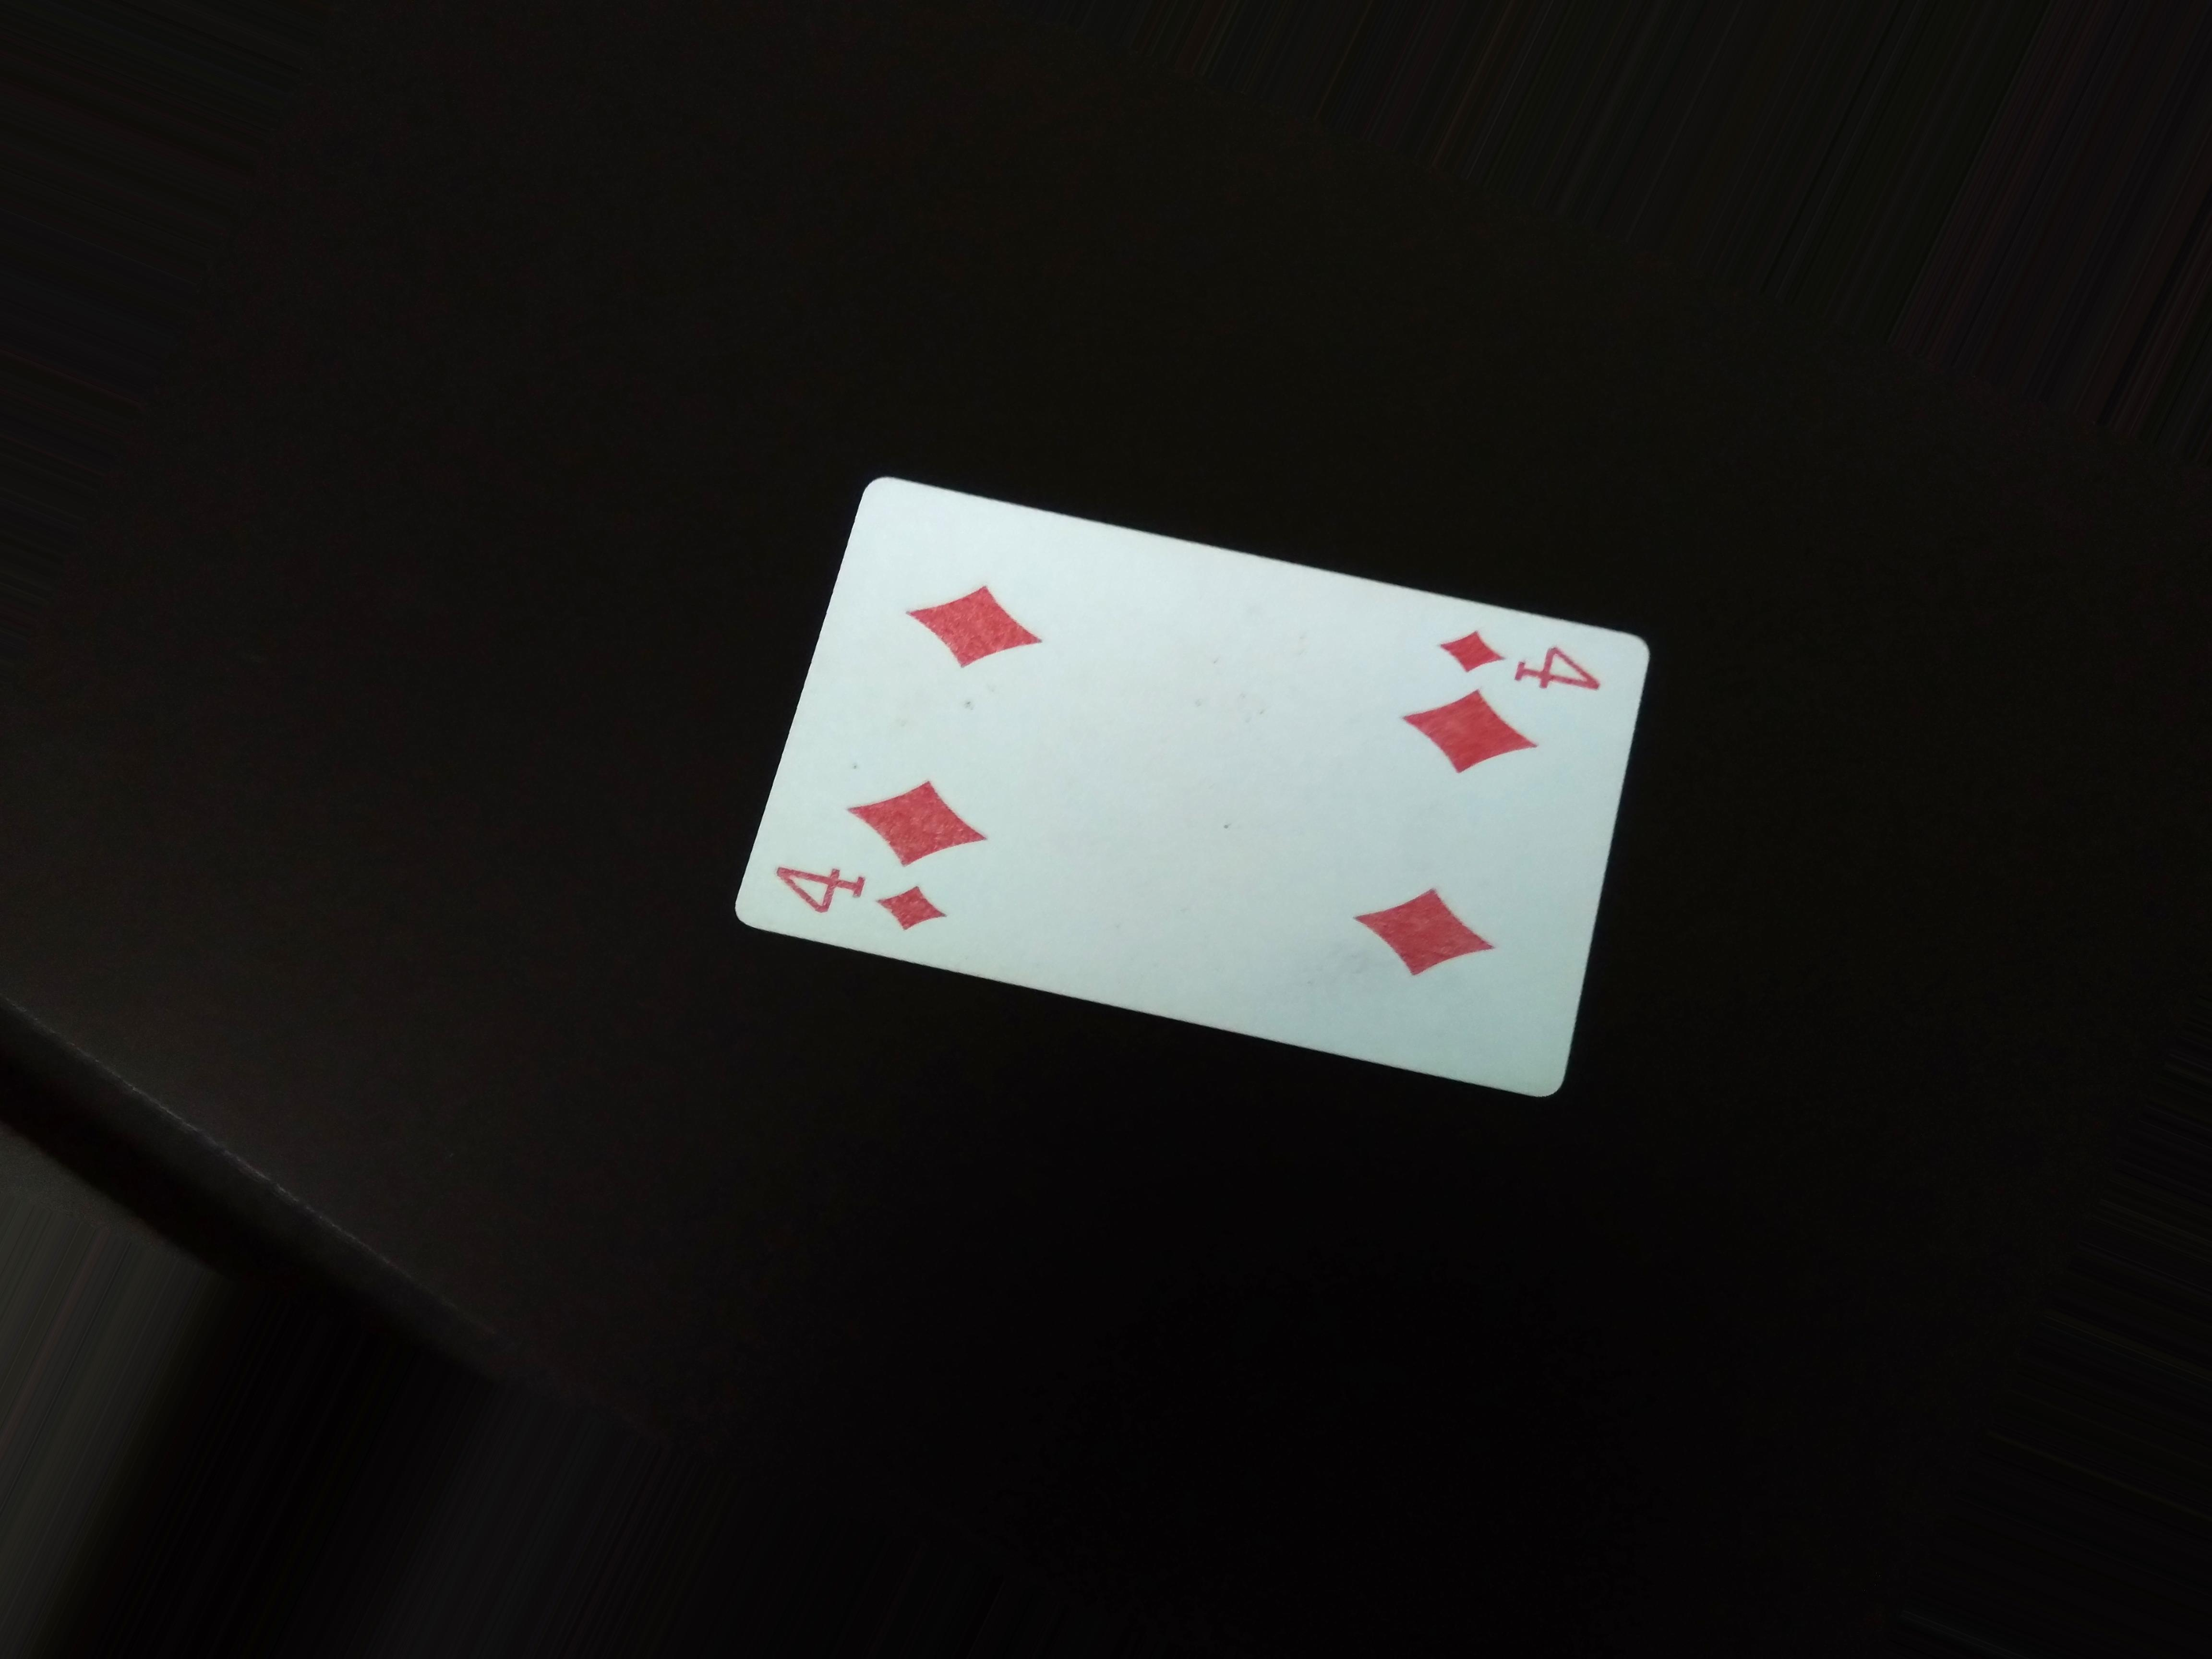4D: (752, 854, 970, 943)
